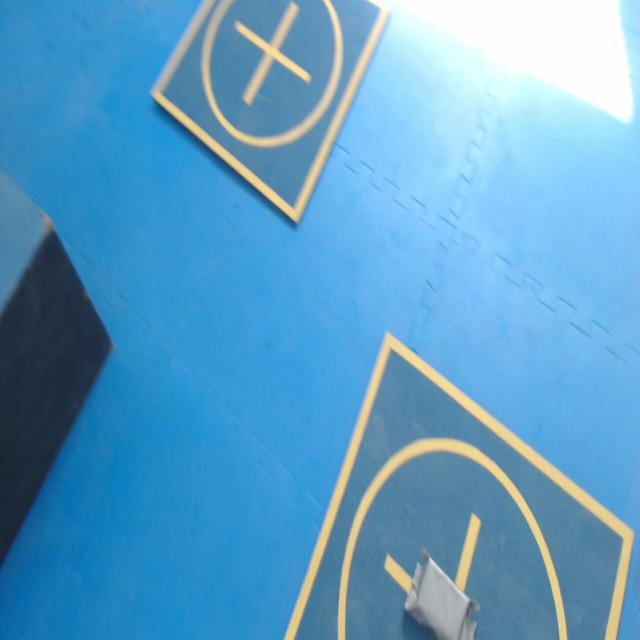lipo: (404, 549, 477, 639)
